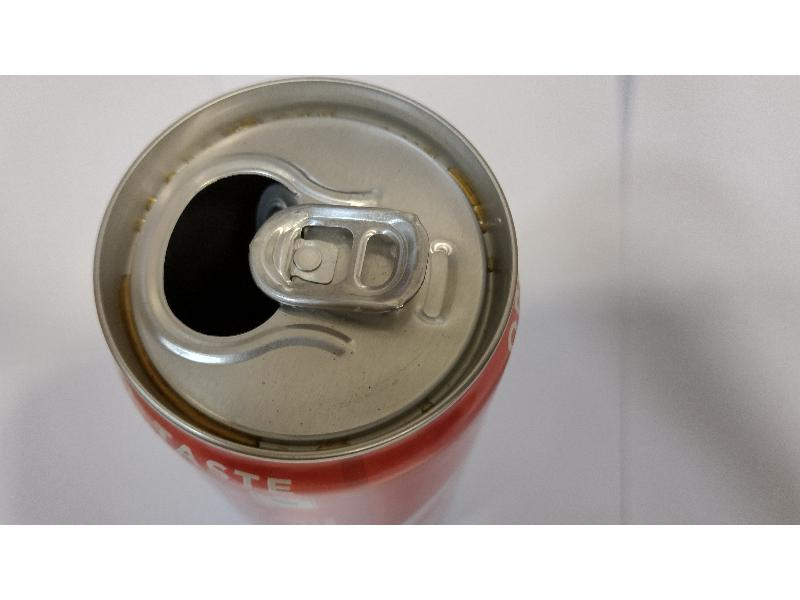can: (78, 74, 538, 511)
